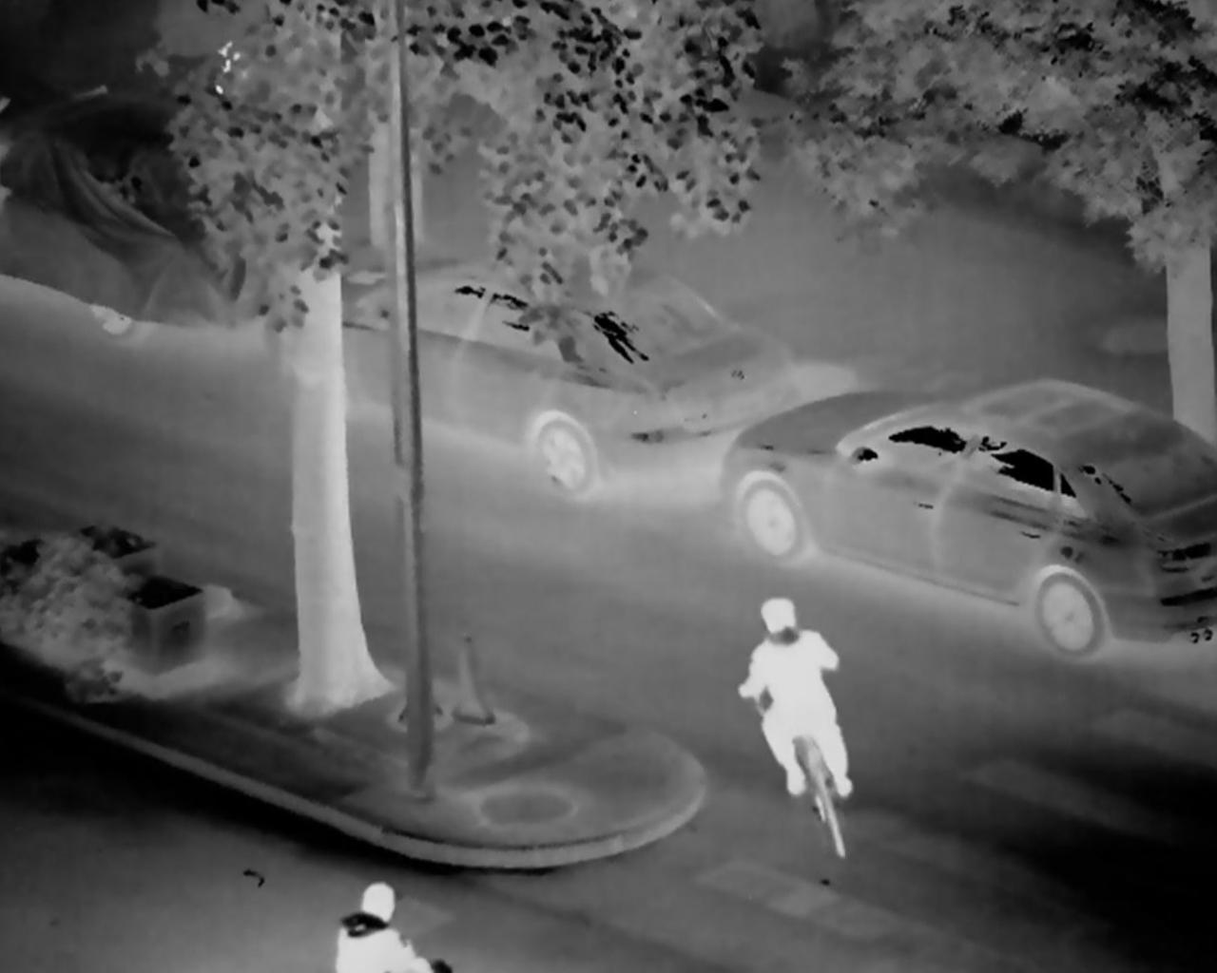person: (732, 593, 862, 817), (332, 878, 437, 973)
